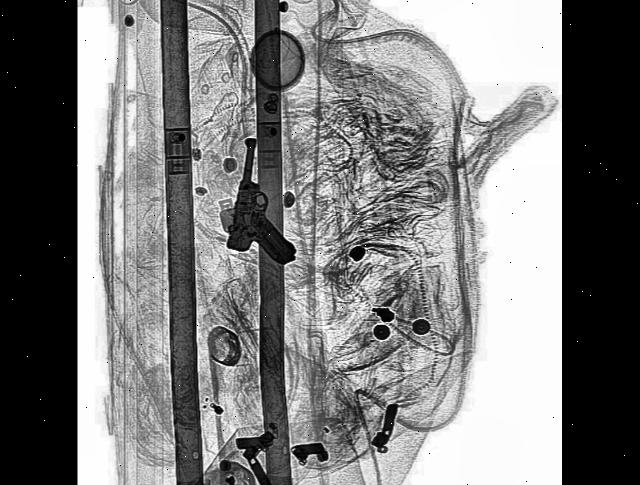Gun: (218, 133, 296, 276)
